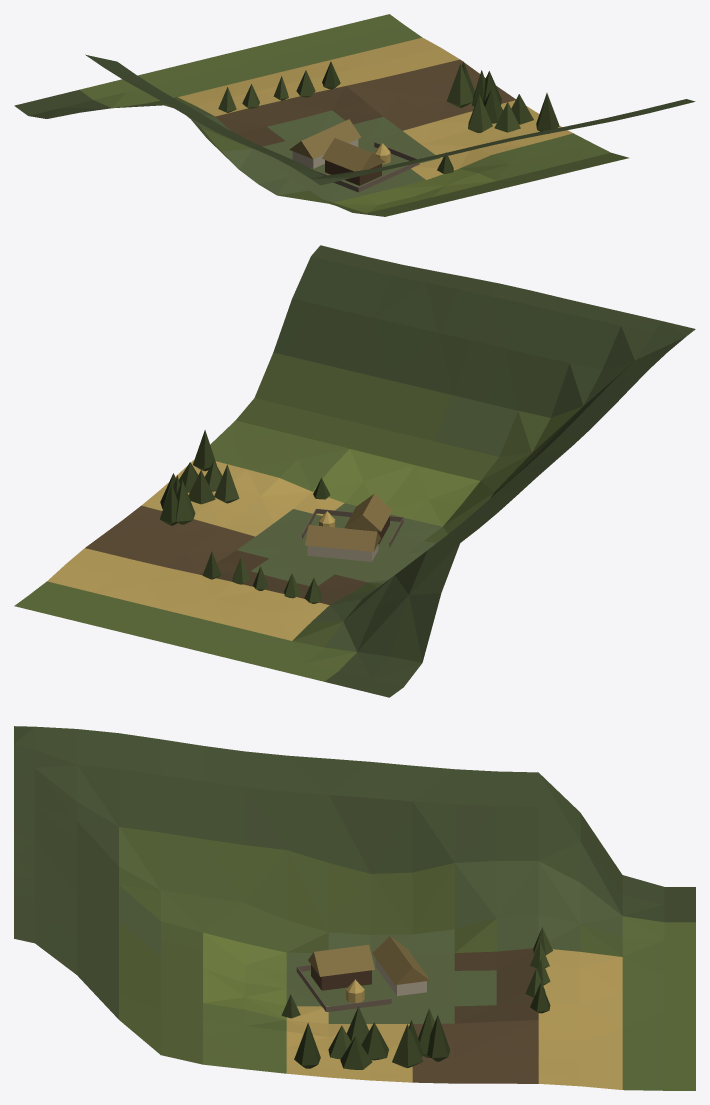
The model's file is backdrop-south-west.glb.
3 renders of one model, top to bottom at view 1: azimuth 30°, elevation 25°; view 2: azimuth 150°, elevation 25°; view 3: azimuth 270°, elevation 25°, orthographic. The views are drawn at different scales.
Visible parts, largest first — view 1: backdrop-south-west; view 2: backdrop-south-west; view 3: backdrop-south-west.
Boxes of the visible parts, <box> form: backdrop-south-west: <box>14,14,695,216</box>; backdrop-south-west: <box>14,245,695,697</box>; backdrop-south-west: <box>14,726,695,1090</box>.
Bounding box in the file's own units: 92 × 33.81 × 130.
1 material, 1 textured.
